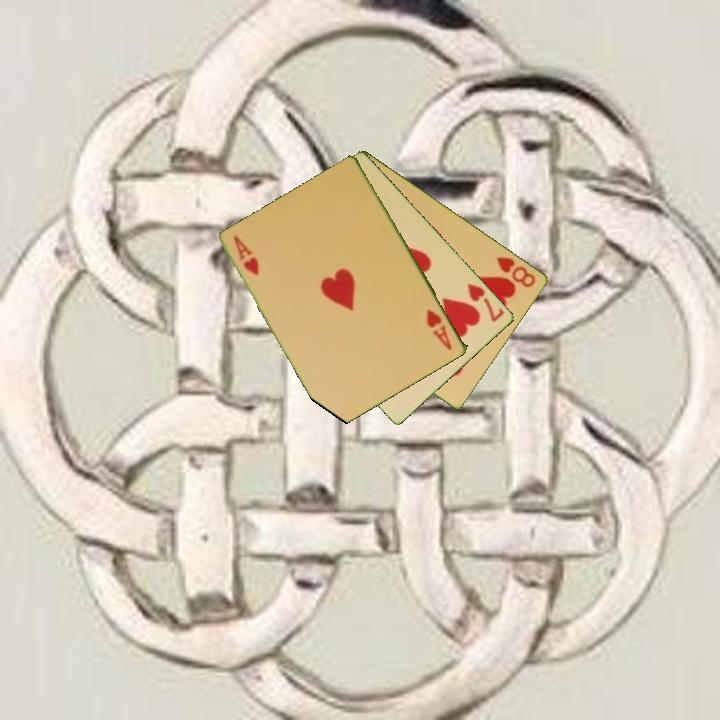7h: (464, 280, 508, 325)
8h: (493, 253, 539, 290)
Ah: (423, 305, 455, 353), (230, 232, 262, 279)
